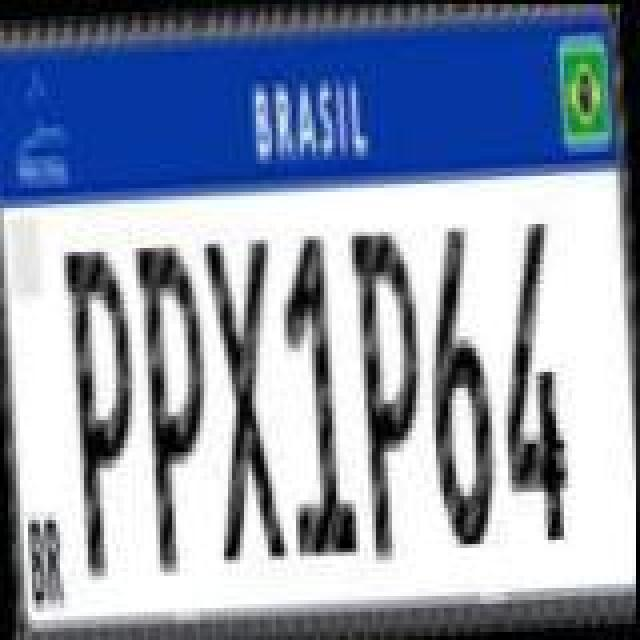1: (276, 232, 360, 564)
4: (492, 220, 576, 548)
6: (420, 220, 504, 552)
P: (62, 242, 150, 582), (134, 240, 222, 580), (348, 226, 432, 562)
X: (200, 238, 292, 566)
